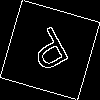P: (25, 25, 77, 81)
